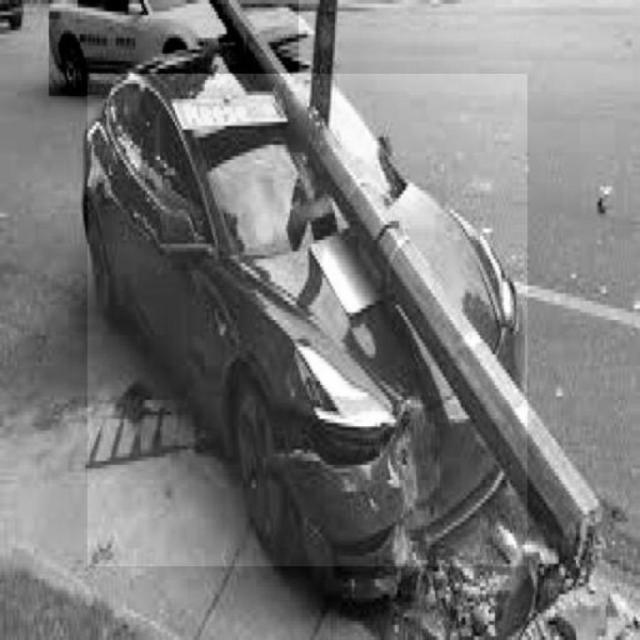accident: (87, 74, 527, 566)
vehicle: (49, 1, 299, 97)
